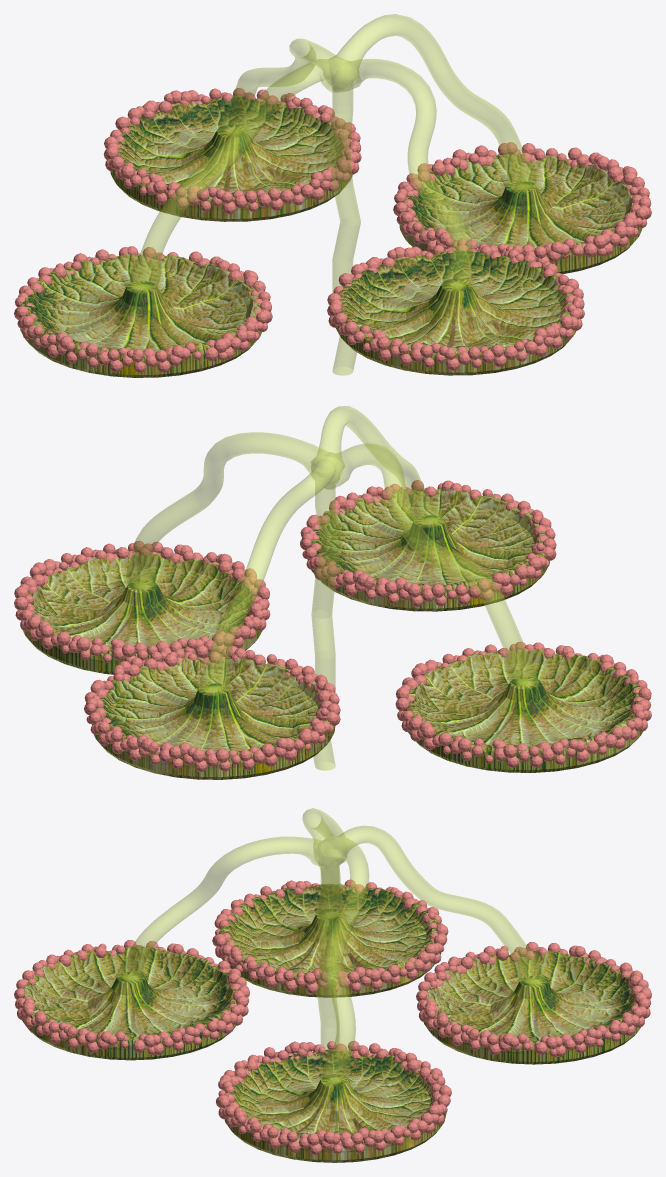
Rendered from liliy-tree.glb.
3 views of the same model, one above another, from view 1: azimuth 30°, elevation 25°; view 2: azimuth 150°, elevation 25°; view 3: azimuth 270°, elevation 25° (orthographic). The views are drawn at different scales.
Parts seen in each view (by area): view 1: Cylinder.004, Cylinder.003, Cylinder.001, Cylinder.002, BézierCurve.002, BézierCurve.001, eggs.003, eggs.002, eggs.004, eggs.001, Cylinder; view 2: Cylinder.004, Cylinder.003, Cylinder.001, Cylinder.002, BézierCurve.002, BézierCurve.001, eggs.003, eggs.002, eggs.004, eggs.001, Cylinder; view 3: Cylinder.003, Cylinder.004, Cylinder.001, Cylinder.002, BézierCurve.001, eggs.002, eggs.003, BézierCurve.002, eggs.004, eggs.001, Cylinder.
Part boxes in pixels (box(x1,y1,x2,y2)): Cylinder.004: box(20, 254, 261, 377); Cylinder.003: box(336, 250, 576, 375); Cylinder.001: box(110, 96, 352, 221); Cylinder.002: box(399, 154, 642, 274); BézierCurve.002: box(128, 14, 538, 292); BézierCurve.001: box(218, 39, 472, 290); eggs.003: box(103, 88, 361, 214); eggs.002: box(393, 142, 651, 263); eggs.004: box(327, 244, 584, 370); eggs.001: box(14, 246, 272, 372); Cylinder: box(329, 80, 360, 375); Cylinder.004: box(405, 649, 645, 772); Cylinder.003: box(307, 488, 549, 611); Cylinder.001: box(92, 656, 335, 779); Cylinder.002: box(23, 553, 262, 674); BézierCurve.002: box(126, 432, 537, 688); BézierCurve.001: box(199, 406, 444, 695); eggs.003: box(84, 645, 340, 771); eggs.002: box(14, 540, 270, 663); eggs.004: box(300, 480, 556, 606); eggs.001: box(395, 641, 651, 768); Cylinder: box(311, 483, 341, 770); Cylinder.003: box(22, 946, 237, 1060); Cylinder.004: box(219, 884, 440, 997); Cylinder.001: box(423, 950, 644, 1064); Cylinder.002: box(224, 1049, 446, 1162); BézierCurve.001: box(118, 826, 546, 986); eggs.002: box(216, 1041, 451, 1155); eggs.003: box(416, 942, 651, 1056); BézierCurve.002: box(302, 808, 368, 1087); eggs.004: box(14, 940, 249, 1054); eggs.001: box(212, 879, 448, 994); Cylinder: box(317, 857, 339, 1049).
Size of the model in its own units: 75.78 by 39.7 by 75.78.
6 materials, 4 textured.
